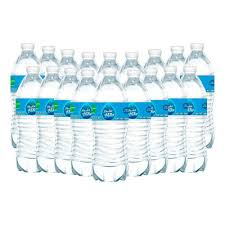Botella: (13, 41, 215, 205)
